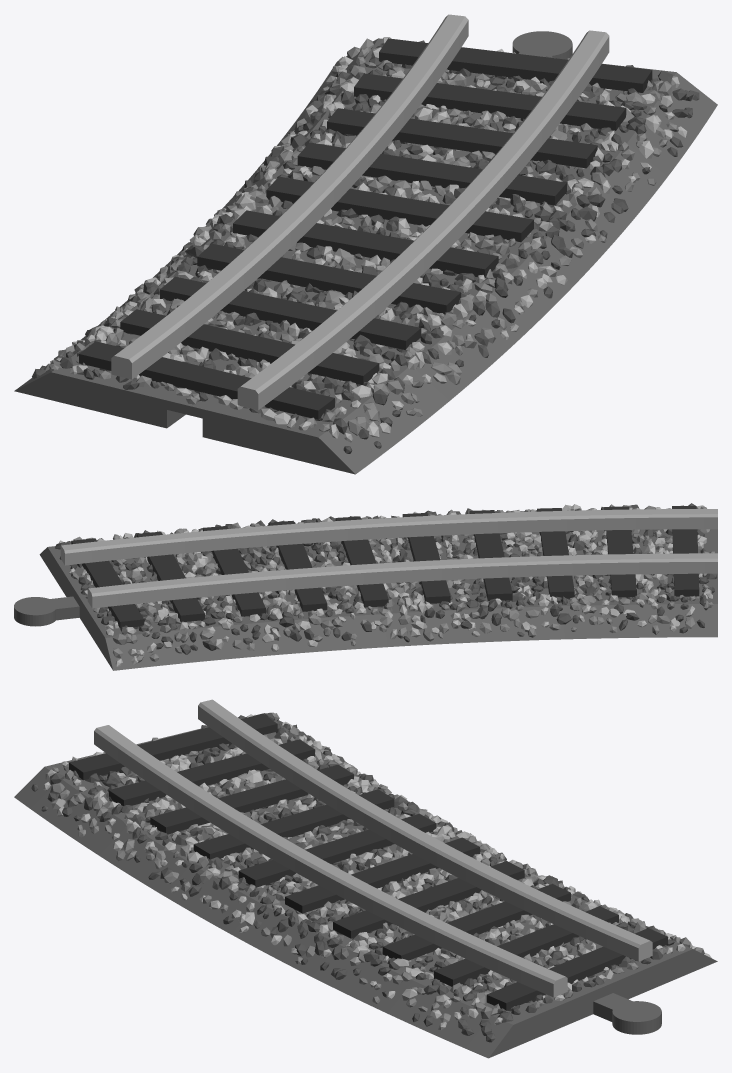
Rendered from Rail_Left_30_45.obj.
The picture shows the model from 3 angles, top to bottom: view 1: azimuth 30°, elevation 25°; view 2: azimuth 150°, elevation 25°; view 3: azimuth 270°, elevation 25°; orthographic projection. The views are drawn at different scales.
Parts seen in each view (by area): view 1: Rail_Left_30_45; view 2: Rail_Left_30_45; view 3: Rail_Left_30_45.
Part boxes in pixels (x1,y1,x2,y2): Rail_Left_30_45: [14, 14, 717, 474]; Rail_Left_30_45: [14, 503, 717, 670]; Rail_Left_30_45: [14, 699, 717, 1058].
Size of the model in its own units: 1.11 by 0.0807 by 0.9975.
Materials: 1 (1 with a texture image).
